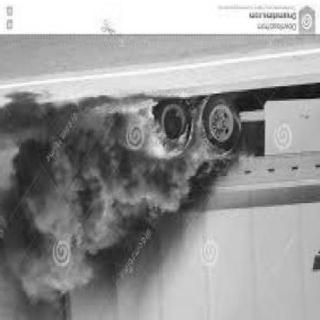Fire: (23, 225, 89, 302)
Smoke: (2, 109, 64, 221), (6, 226, 34, 282)
